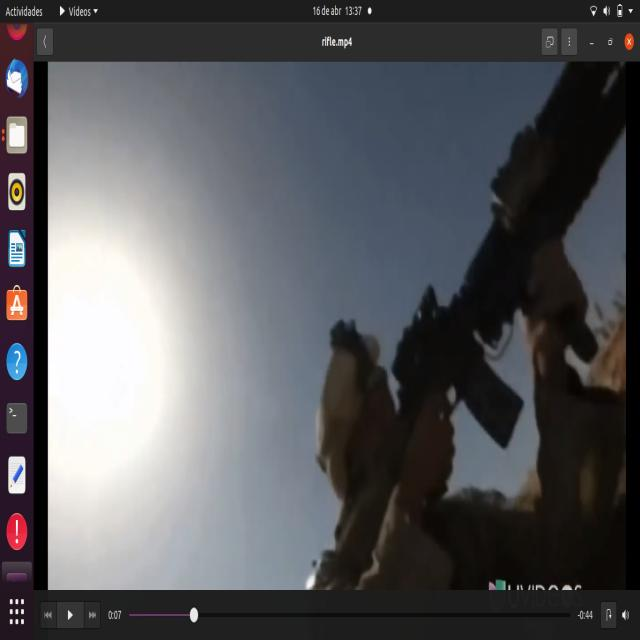RifleTel: (380, 59, 633, 446)
